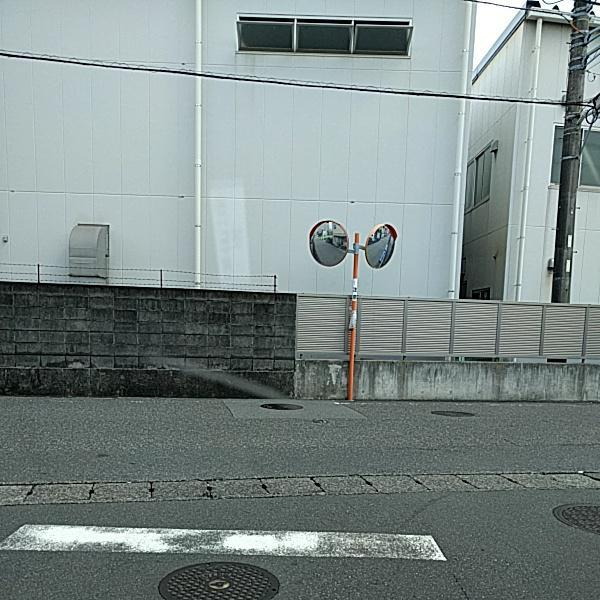D44: (7, 511, 462, 571)
D50: (152, 554, 295, 599), (553, 497, 599, 533), (428, 408, 477, 419), (261, 402, 306, 409)
